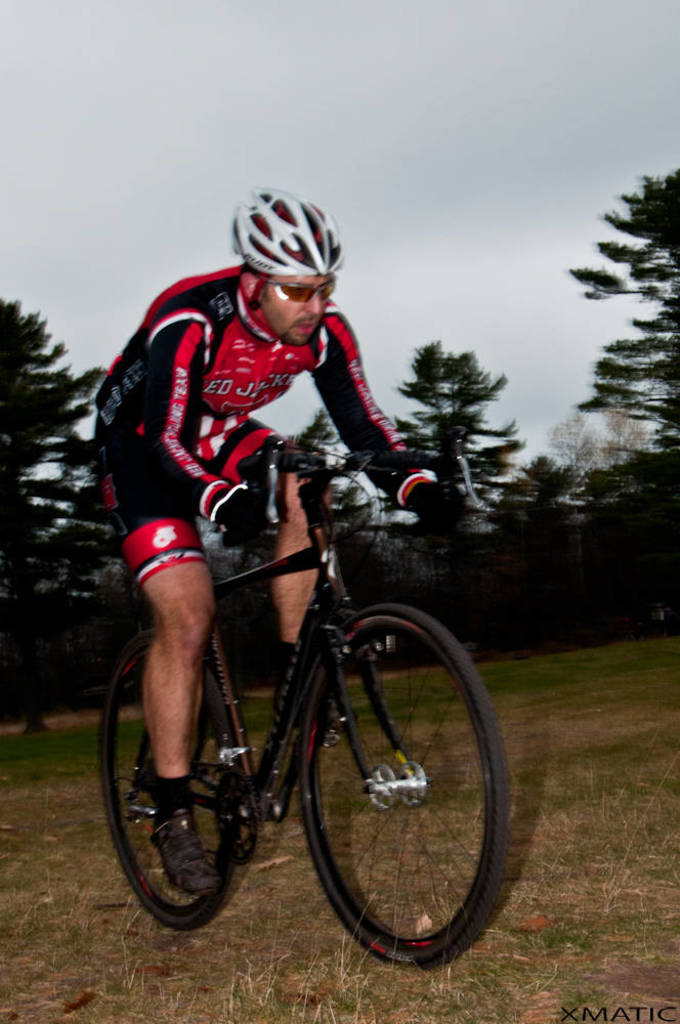Bike_toward: (77, 448, 515, 963)
